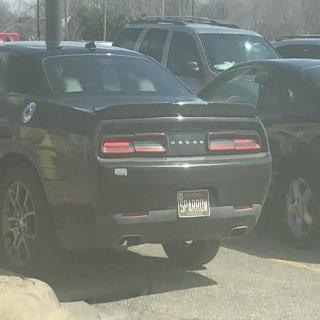license: (177, 190, 212, 220)
